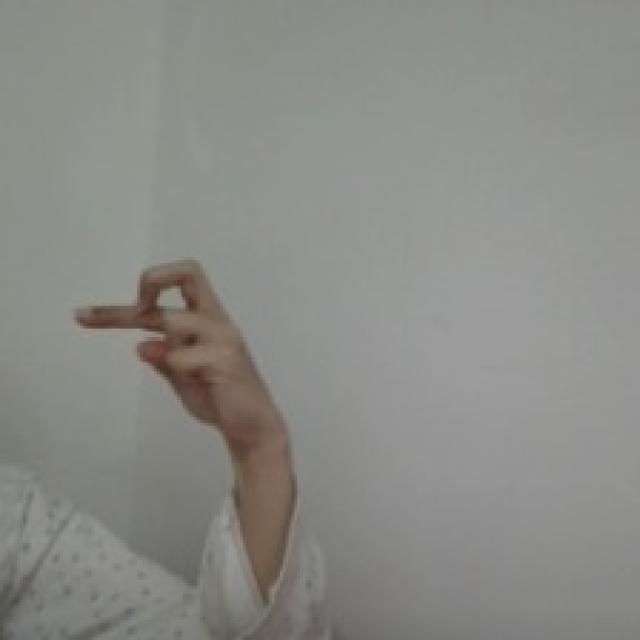sunday: (66, 248, 269, 447)
